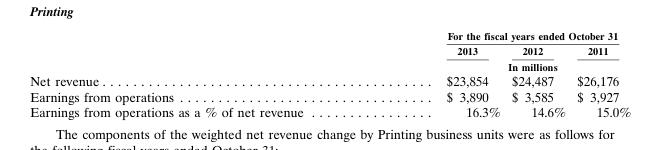table: (29, 28, 630, 119)
table column: (29, 28, 374, 119), (374, 28, 505, 119), (505, 28, 570, 119), (570, 28, 630, 119)
table column header: (29, 28, 630, 72)
table row: (29, 42, 630, 58), (29, 72, 630, 88), (29, 103, 630, 119), (29, 88, 630, 103), (29, 28, 630, 42), (29, 58, 630, 72)
table spanning cell: (374, 28, 630, 42), (374, 58, 630, 72)
